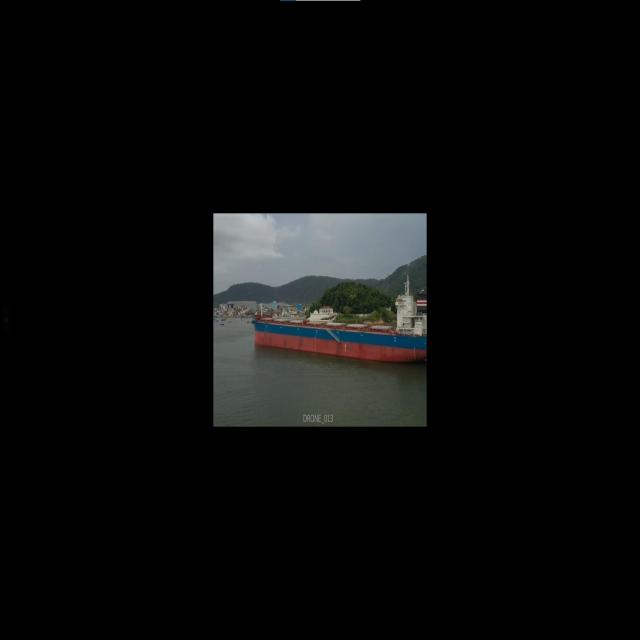ship: (254, 288, 427, 364)
